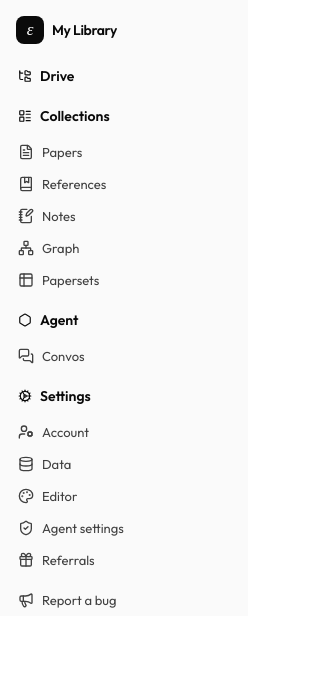
it: Sidebar › renders Trash row at bottom of Drive with sidebar-trash testid
Note: Drive is collapsed by default — expand it first
Click the button "Drive" at (124, 76), box [8,60,240,92]
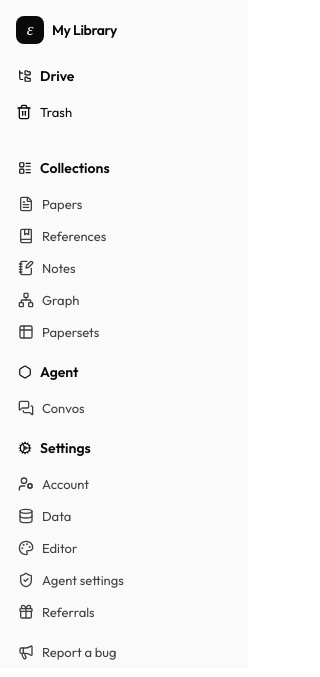
Result: the list item with test id "sidebar-trash" is shown at [16,104,72,120]
Result: the text "Trash" is shown at [40,103,72,121]
